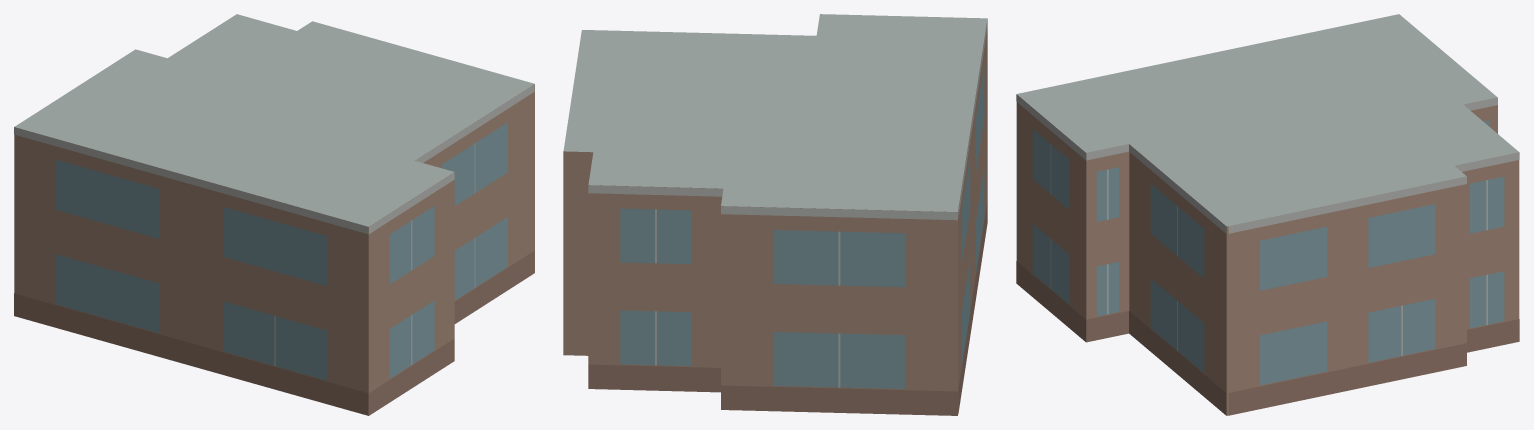
The model's file is survey-upis-32862242.glb.
3 renders of one model, left to right at view 1: azimuth 30°, elevation 25°; view 2: azimuth 150°, elevation 25°; view 3: azimuth 270°, elevation 25°, orthographic. The views are drawn at different scales.
Visible parts, largest first — view 1: survey-upis-32862242.tmp; view 2: survey-upis-32862242.tmp; view 3: survey-upis-32862242.tmp.
Part boxes in pixels (left/top/right/bottom): survey-upis-32862242.tmp: left=14, top=14, right=534, bottom=415; survey-upis-32862242.tmp: left=563, top=14, right=987, bottom=415; survey-upis-32862242.tmp: left=1016, top=14, right=1519, bottom=415.
Bounding box in the file's own units: 14.69 × 6.1 × 14.69.
